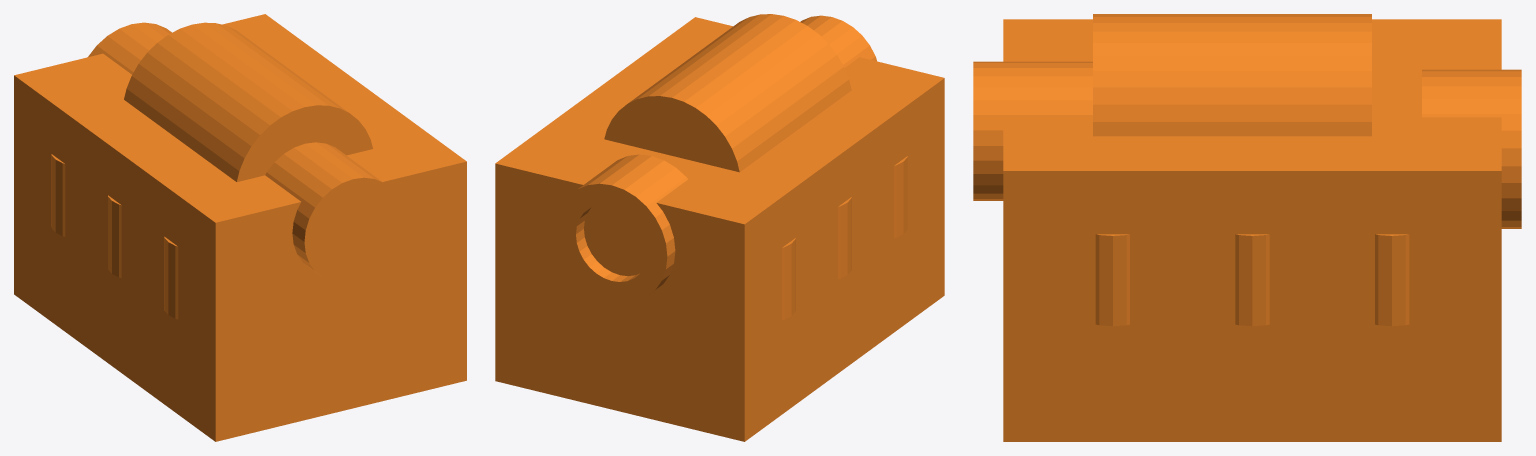
File: 12_v6_turbo_hybrid_power_unit.glb
3 views of the same model, side by side, from view 1: azimuth 30°, elevation 25°; view 2: azimuth 150°, elevation 25°; view 3: azimuth 270°, elevation 25° (orthographic). The views are drawn at different scales.
Parts seen in each view (by area): view 1: V6 turbo hybrid power unit study; view 2: V6 turbo hybrid power unit study; view 3: V6 turbo hybrid power unit study.
Part boxes in pixels (box(x1,y1,x2,y2)): V6 turbo hybrid power unit study: box(14, 14, 466, 441); V6 turbo hybrid power unit study: box(495, 14, 944, 441); V6 turbo hybrid power unit study: box(973, 14, 1521, 441).
Size of the model in its own units: 0.0184 by 0.019 by 0.0275.
